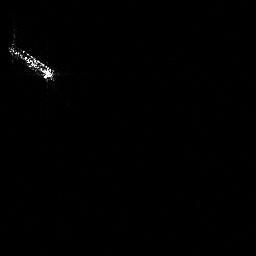ship: (4, 36, 60, 87)
